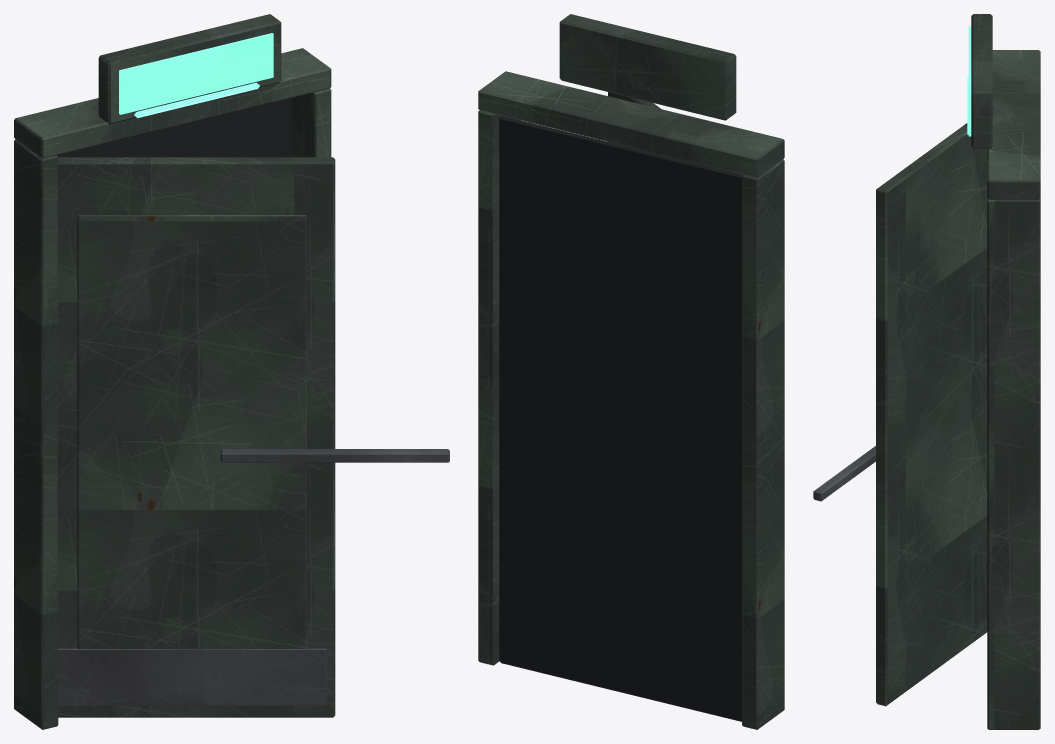
Rendered from door_exit.glb.
3 views of the same model, side by side, from view 1: azimuth 30°, elevation 25°; view 2: azimuth 150°, elevation 25°; view 3: azimuth 270°, elevation 25° (orthographic). The views are drawn at different scales.
Parts seen in each view (by area): view 1: door, frame; view 2: frame; view 3: door, frame.
Boxes of the visible parts, left/top/right/bottom form: door: left=58, top=157, right=449, bottom=717; frame: left=14, top=14, right=331, bottom=729; frame: left=478, top=14, right=784, bottom=729; door: left=813, top=123, right=987, bottom=706; frame: left=967, top=14, right=1040, bottom=729.
Bounding box in the file's own units: 1.28 × 2.54 × 0.8533.
Materials: 6 (4 with a texture image).
